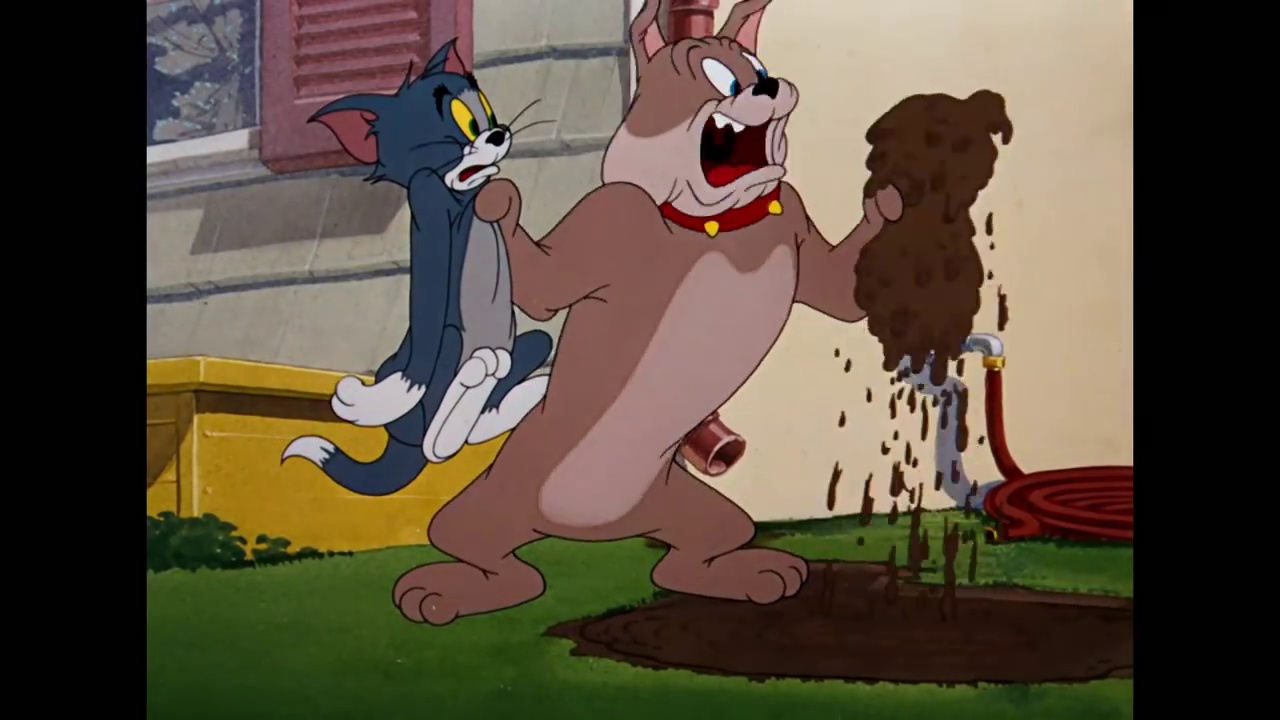spike: (592, 2, 811, 240)
tom: (304, 31, 562, 198)
